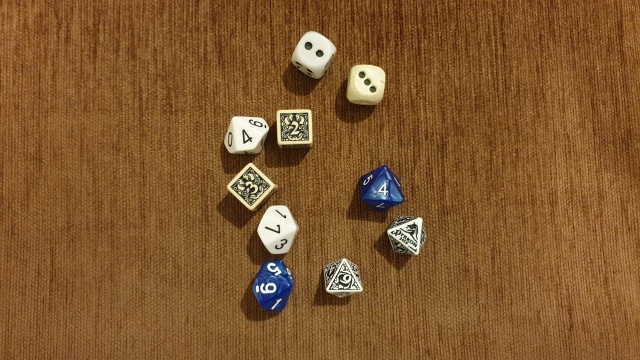d10-4: (217, 109, 270, 160), (358, 162, 408, 213)
d10-7: (252, 204, 304, 258)
d10-9: (244, 255, 299, 317)
d6-2: (288, 30, 338, 81)
d6-3: (342, 62, 388, 108)
d6p-2: (272, 106, 316, 152)
d6p-3: (223, 162, 278, 212)
d8p-1: (384, 212, 428, 263)
d8p-6: (316, 255, 367, 303)
